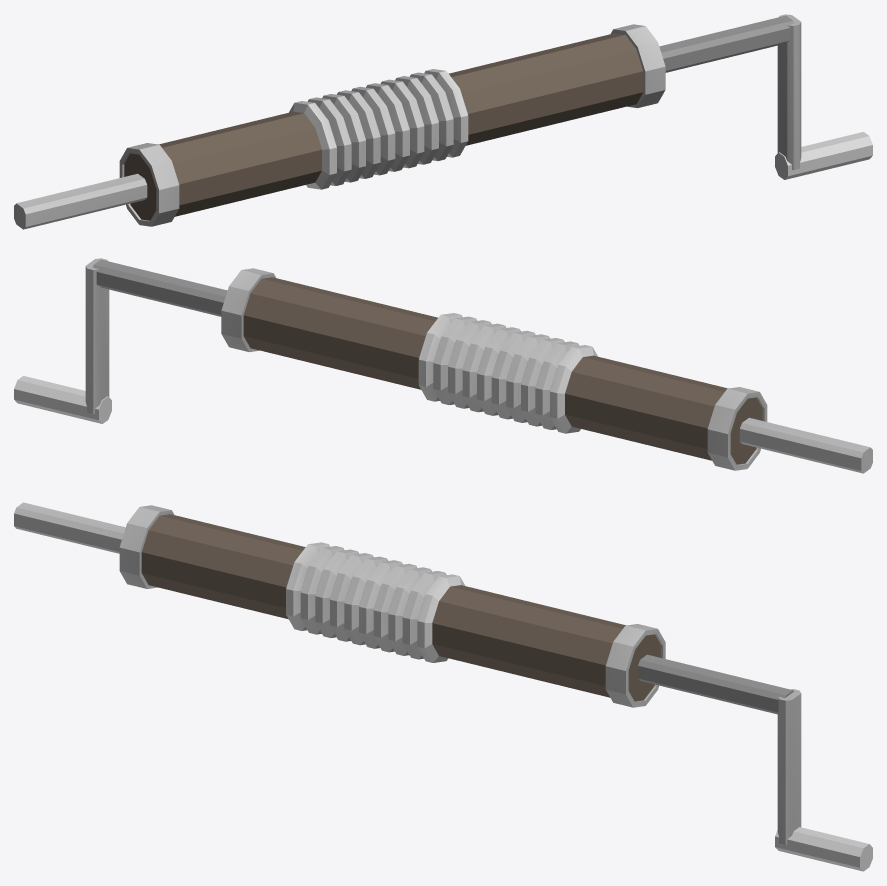
Rendered from well_winch.glb.
3 views of the same model, one above another, from view 1: azimuth 30°, elevation 25°; view 2: azimuth 150°, elevation 25°; view 3: azimuth 330°, elevation 25° (orthographic).
Parts seen in each view (by area): view 1: axle; view 2: axle; view 3: axle.
Part boxes in pixels (box(x1,y1,x2,y2)): axle: box(14, 14, 872, 229); axle: box(14, 258, 872, 473); axle: box(14, 502, 872, 871).
Bounding box in the file's own units: 2.09 × 0.4455 × 0.1864.
